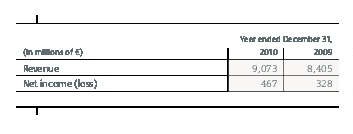table: (0, 0, 353, 134)
